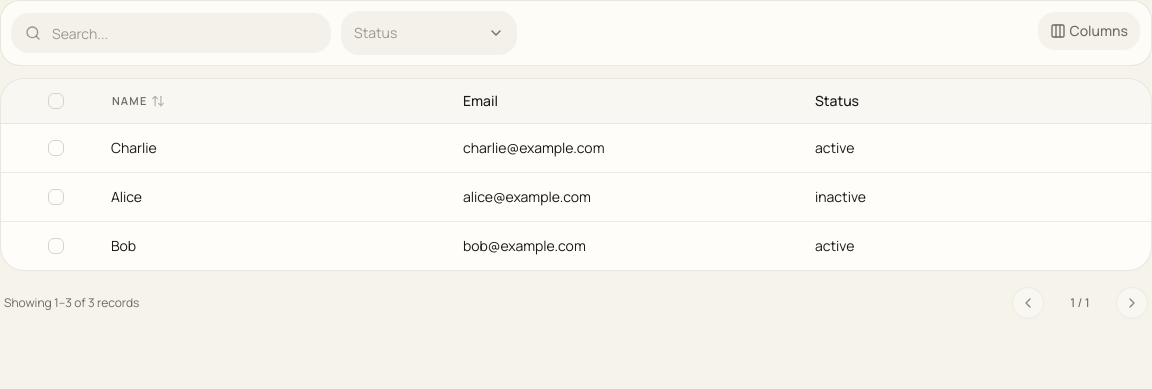
Scenario: DataTable › selects rows and exposes them to bulk actions
This screenshot has width=1152, height=389.
Click the checkbox named "Select row" in the row of "charlie@example.com" at x=56, y=148, box [48, 140, 64, 156]
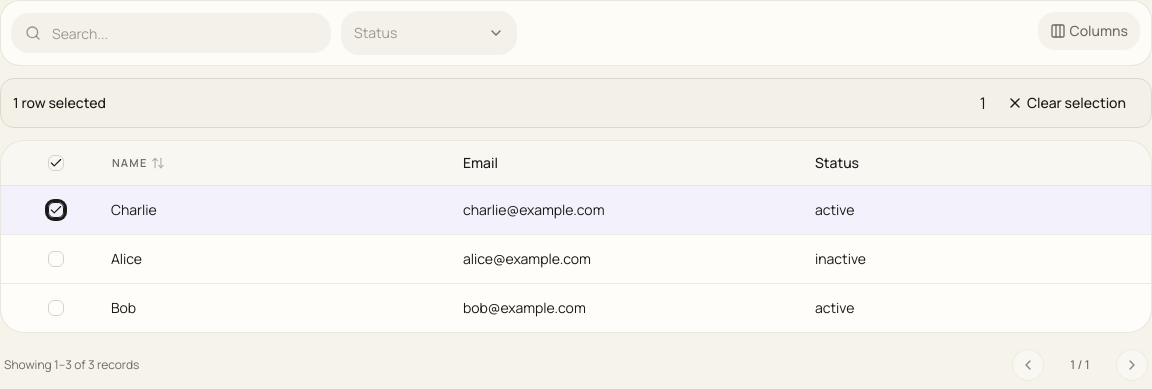
Expected: the text with test id "bulk-count" reads "1", [980, 92, 986, 114]
Expected: the text "1 row selected" is shown, [13, 93, 106, 113]
